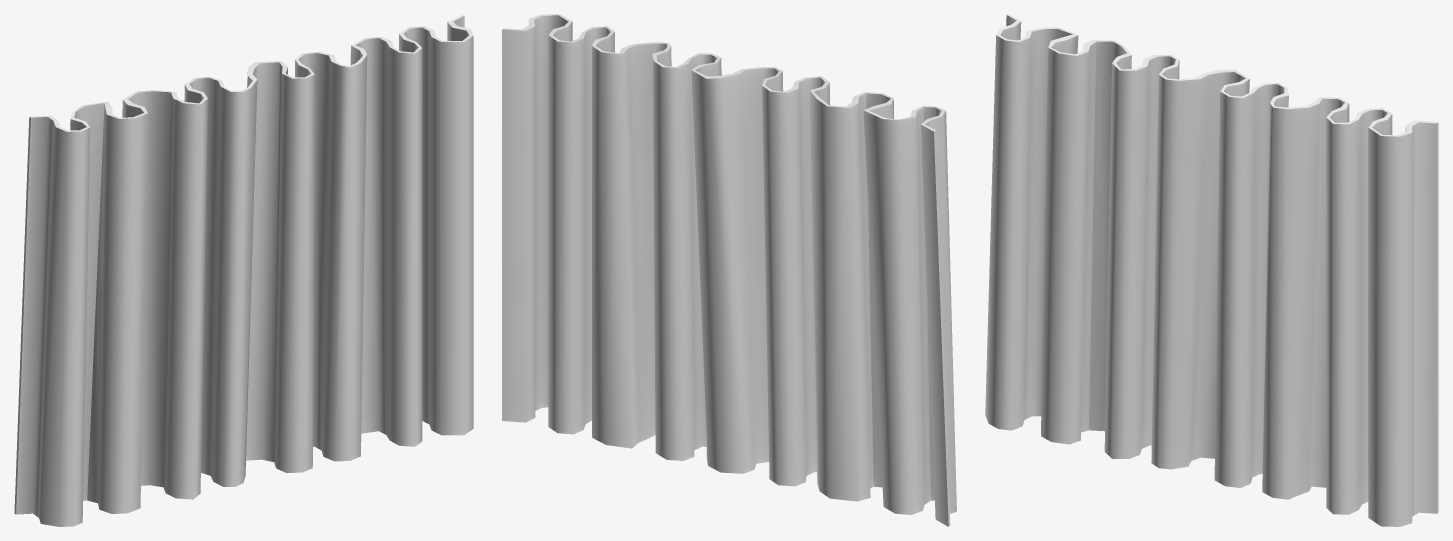
File: Pfb_Indoors_WC__2.fbx
3 views of the same model, side by side, from view 1: azimuth 30°, elevation 25°; view 2: azimuth 150°, elevation 25°; view 3: azimuth 330°, elevation 25° (orthographic).
Parts seen in each view (by area): view 1: Mat_Indoors_WC_02_Red; view 2: Mat_Indoors_WC_02_Red; view 3: Mat_Indoors_WC_02_Red.
Boxes of the visible parts, <box> form: Mat_Indoors_WC_02_Red: <box>14,14,473,526</box>; Mat_Indoors_WC_02_Red: <box>502,14,956,526</box>; Mat_Indoors_WC_02_Red: <box>985,14,1438,526</box>.
Bounding box in the file's own units: 2.58 × 2.18 × 0.3088.
Materials: 1 (1 with a texture image).
